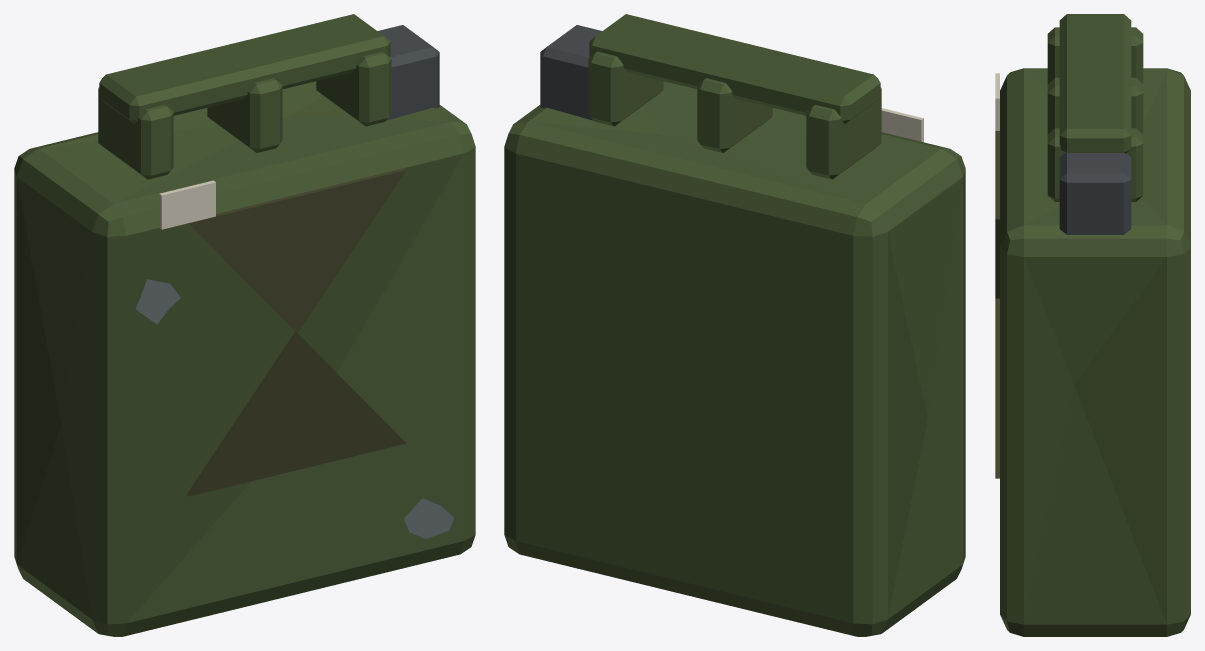
File: fuel_canister_20_l_idle.glb
The picture shows the model from 3 angles, left to right: view 1: azimuth 30°, elevation 25°; view 2: azimuth 150°, elevation 25°; view 3: azimuth 270°, elevation 25°; orthographic projection. The views are drawn at different scales.
Parts seen in each view (by area): view 1: fuel_canister_20_l_idle; view 2: fuel_canister_20_l_idle; view 3: fuel_canister_20_l_idle.
Boxes of the visible parts, left/top/right/bottom form: fuel_canister_20_l_idle: left=14, top=14, right=475, bottom=636; fuel_canister_20_l_idle: left=504, top=14, right=965, bottom=636; fuel_canister_20_l_idle: left=995, top=14, right=1190, bottom=636.
Bounding box in the file's own units: 0.35 × 0.45 × 0.165.
Materials: 1 (1 with a texture image).
